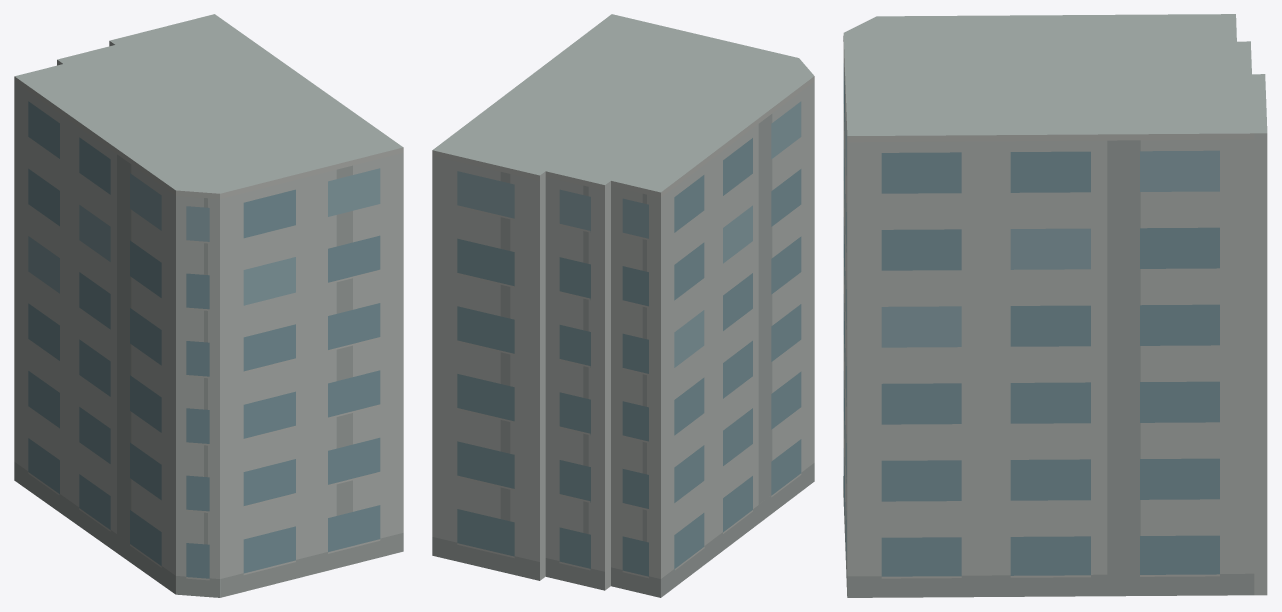
File: survey-upis-32696363.glb
The picture shows the model from 3 angles, left to right: view 1: azimuth 30°, elevation 25°; view 2: azimuth 150°, elevation 25°; view 3: azimuth 270°, elevation 25°; orthographic projection. The views are drawn at different scales.
Parts seen in each view (by area): view 1: survey-upis-32696363.tmp; view 2: survey-upis-32696363.tmp; view 3: survey-upis-32696363.tmp.
Part boxes in pixels (x1=…): survey-upis-32696363.tmp: x1=14, y1=14, x2=403, y2=597; survey-upis-32696363.tmp: x1=432, y1=14, x2=814, y2=597; survey-upis-32696363.tmp: x1=843, y1=14, x2=1267, y2=597.
Size of the model in its own units: 10.39 by 18.3 by 15.24.
